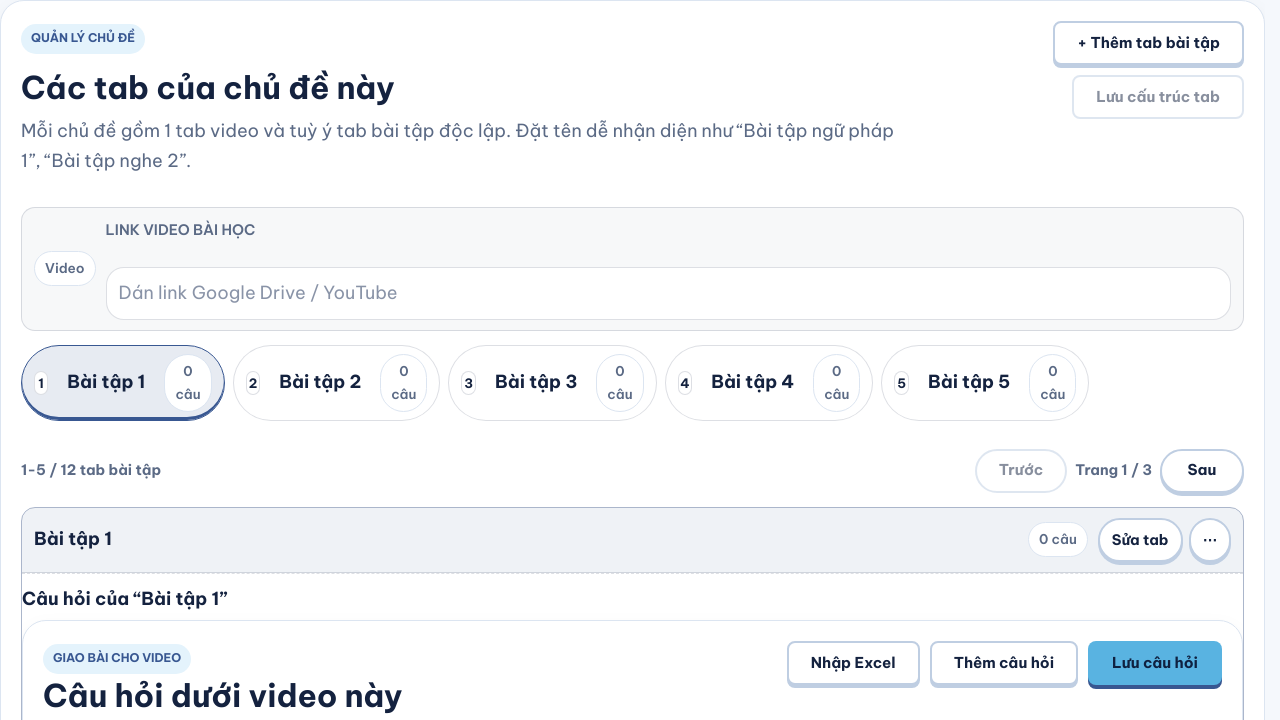
it: LessonTabManager — phân trang thanh tab › nút ↑ của tab thứ 6 vẫn bấm được, không tính theo vị trí trong trang
The image size is (1280, 720).
Click the button "Sau".
click(1202, 470)  # box [1160,448,1244,492]
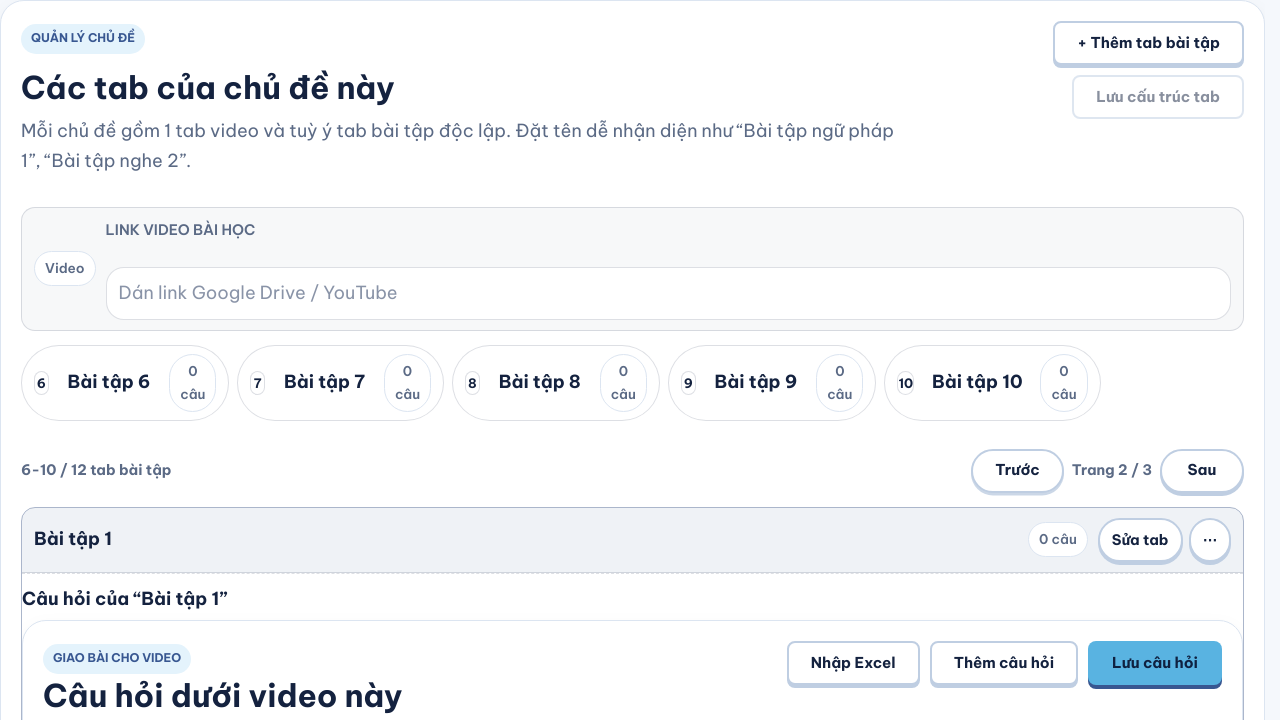
Click the tab with class "lesson-tab-manager__chip" showing "6 Bài tập 6 0 câu".
click(125, 383)  # box [21,345,230,420]
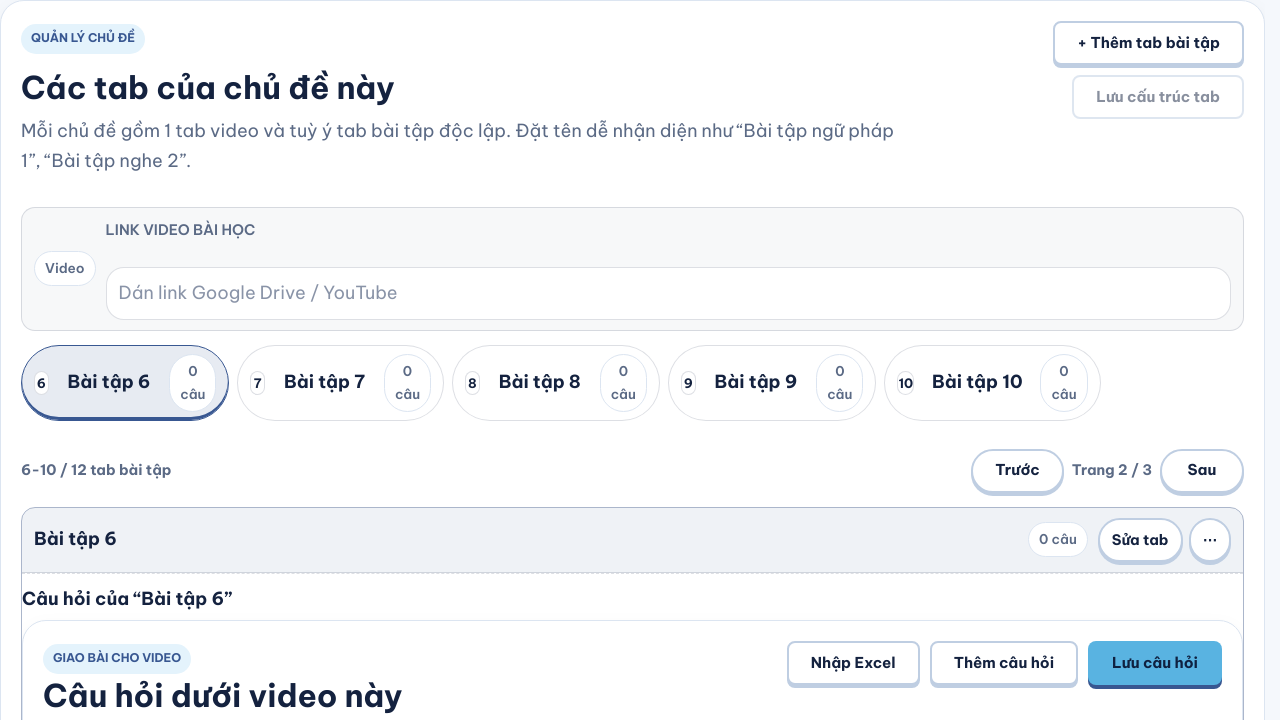
Click the button named "Thêm thao tác".
click(1210, 540)  # box [1188,518,1231,562]
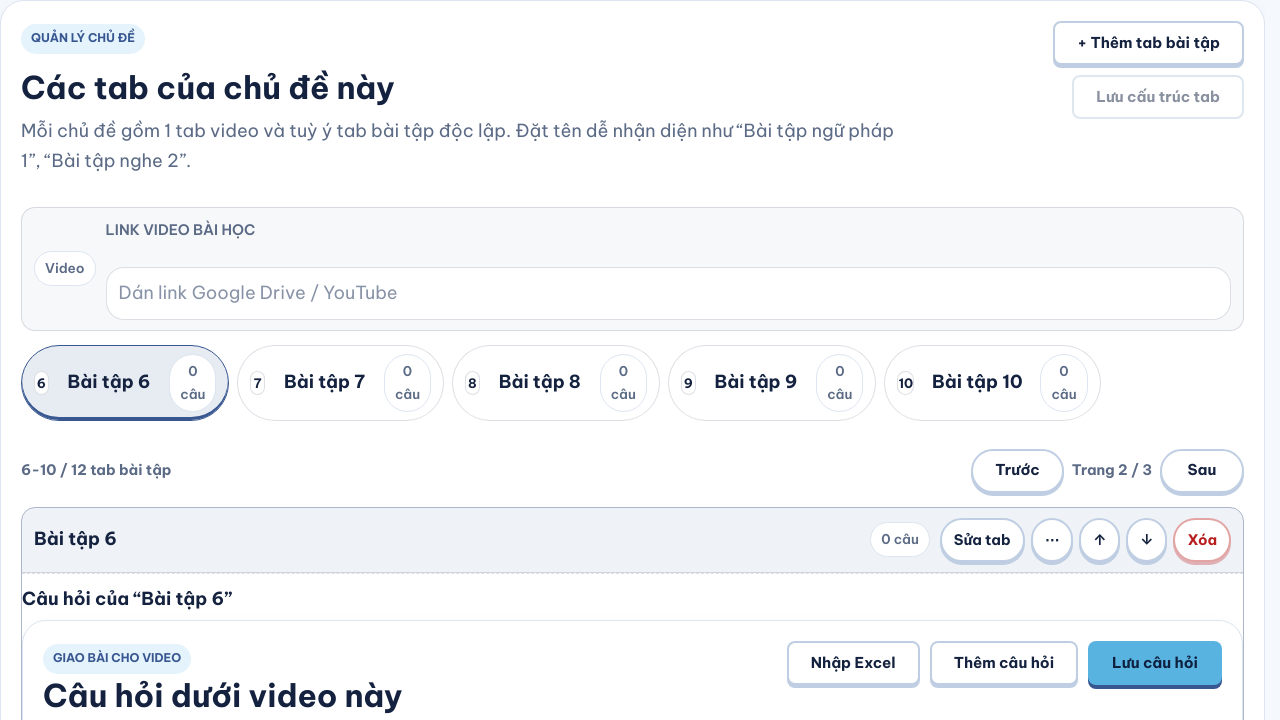
Now the button named "Đưa tab lên trên" is enabled, box [1079,518,1120,562]
